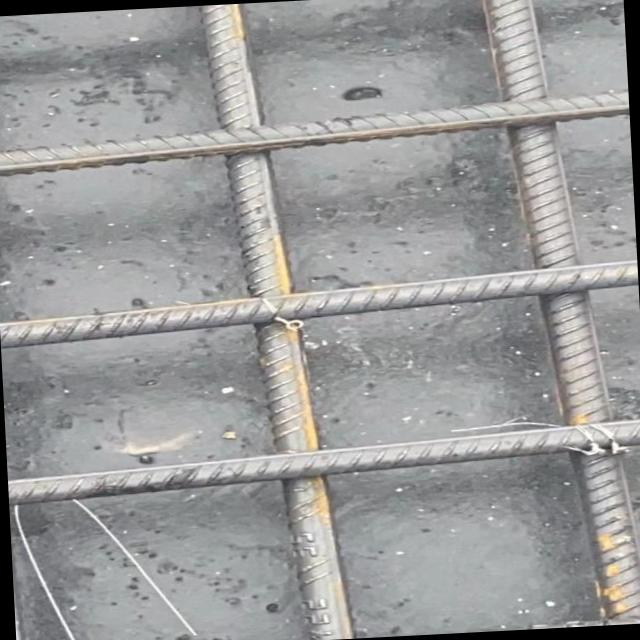ribbed bar: (196, 0, 355, 640), (480, 0, 640, 629), (0, 257, 639, 348), (7, 417, 640, 508), (0, 88, 630, 179)
